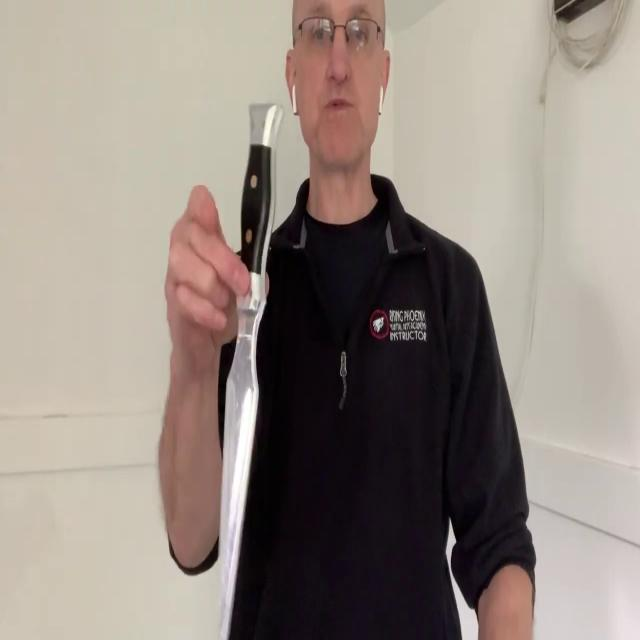Knife_Handle: (163, 100, 284, 640)
